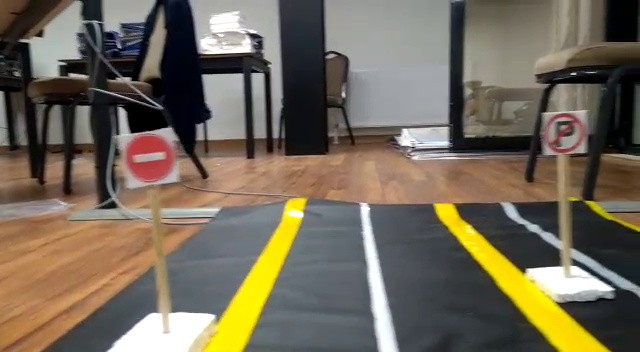girisi_olmayan_yol: (120, 132, 181, 185)
park_yapilmaz: (544, 112, 586, 155)
